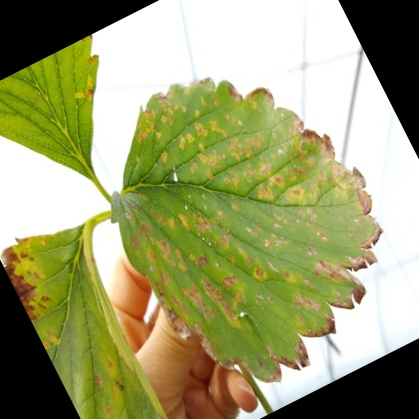Angular_LS: (115, 80, 364, 399), (0, 146, 100, 418), (30, 0, 183, 170)
